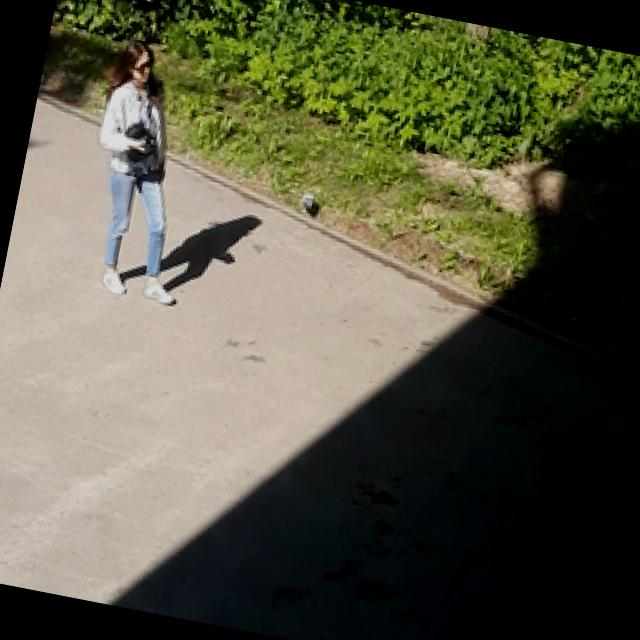person: (66, 36, 224, 307)
